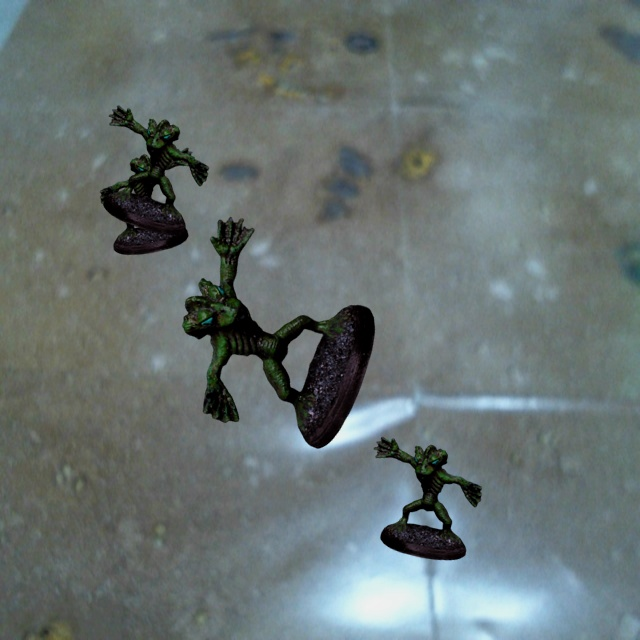pieza_juego: (182, 217, 374, 448), (103, 105, 208, 234), (374, 437, 481, 559), (100, 148, 194, 254)
